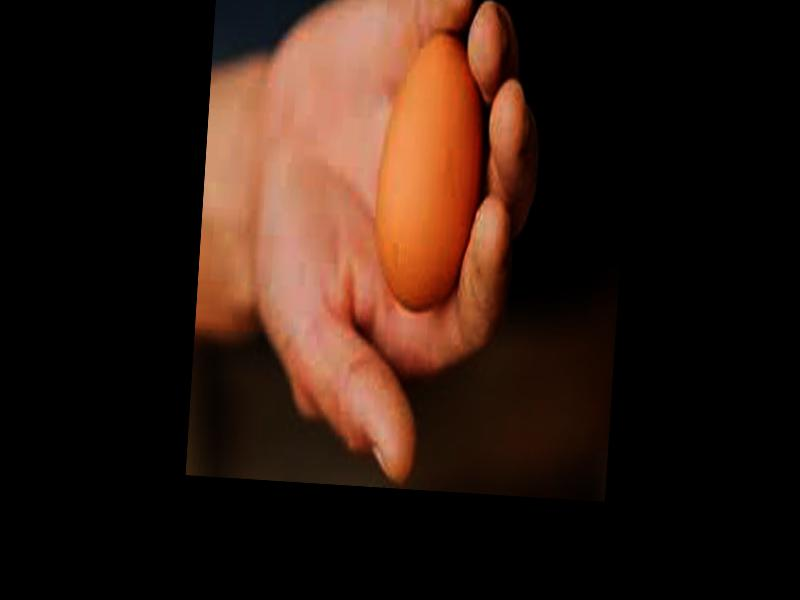Eggs: (371, 27, 488, 311)
